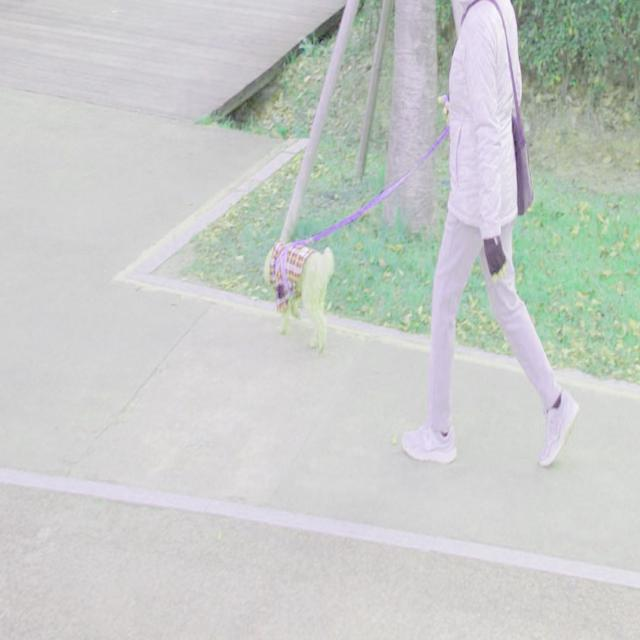Leashed_Dog: (264, 95, 456, 358)
